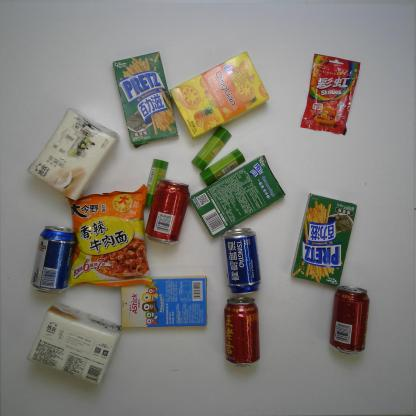Alcohol: (29, 224, 78, 295), (221, 226, 262, 296)
Candy: (299, 52, 362, 136)
Dessert: (168, 50, 271, 140), (188, 154, 287, 240), (113, 51, 181, 148), (290, 193, 358, 289), (121, 275, 207, 329)
Drink: (143, 178, 191, 246), (328, 284, 370, 356), (223, 296, 262, 368)
Instant Noodles: (65, 184, 154, 288)
Stationery: (190, 126, 234, 172), (198, 146, 245, 187), (143, 157, 169, 208)
Tissue: (26, 107, 119, 203), (25, 303, 122, 385)
